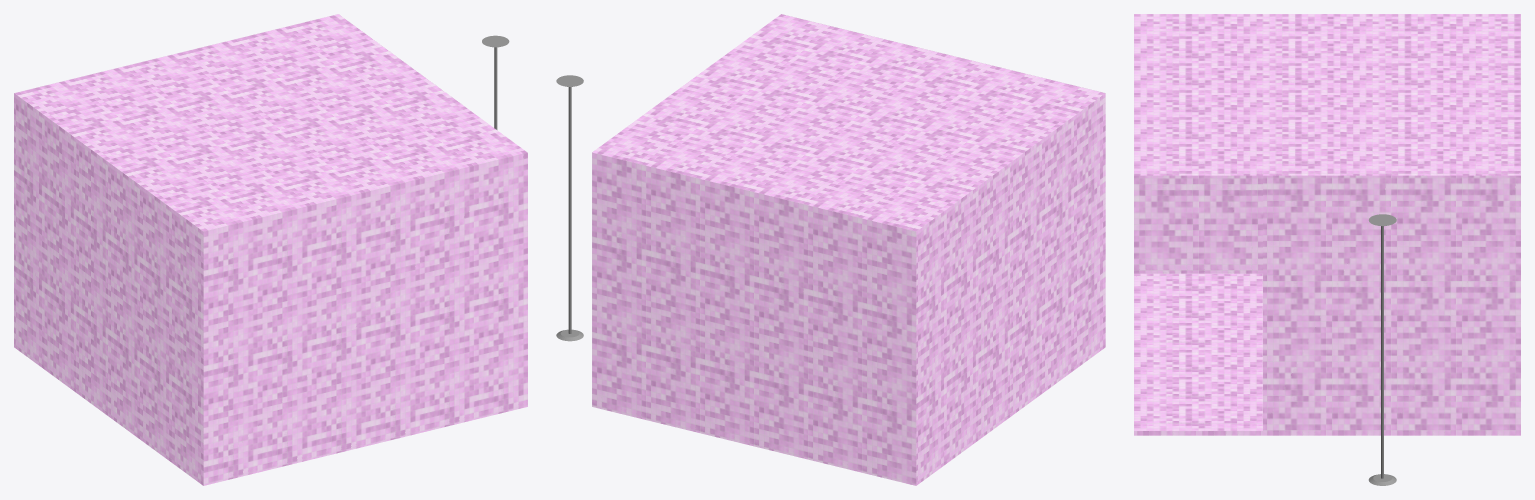
File: baño.gltf
3 views of the same model, side by side, from view 1: azimuth 30°, elevation 25°; view 2: azimuth 150°, elevation 25°; view 3: azimuth 270°, elevation 25° (orthographic). The views are drawn at different scales.
Parts seen in each view (by area): view 1: baño.001, poledance; view 2: baño.001, poledance; view 3: baño.001, baño.003, poledance.
Boxes of the visible parts, left/top/right/bottom form: baño.001: left=14, top=14, right=527, bottom=485; poledance: left=482, top=35, right=509, bottom=129; baño.001: left=592, top=14, right=1105, bottom=485; poledance: left=556, top=75, right=583, bottom=341; baño.001: left=1134, top=14, right=1520, bottom=430; baño.003: left=1134, top=175, right=1520, bottom=435; poledance: left=1368, top=214, right=1396, bottom=485.
Bounding box in the file's own units: 153 × 87.39 × 118.
Materials: 5 (3 with a texture image).
